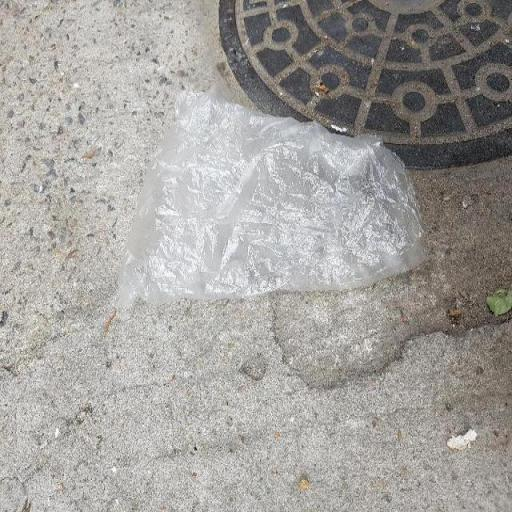plastic-bag: (110, 84, 436, 310)
